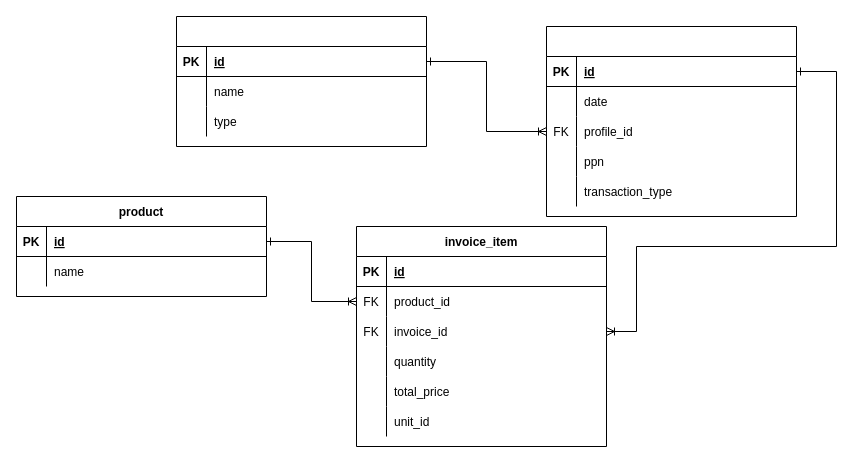
The diagram is 853 pixels wide and 463 high, and some of its shapes have lost their labels. Each missing label, with the box of its shape:
invoice: (546, 26, 796, 216)
Profile: (176, 16, 426, 146)
